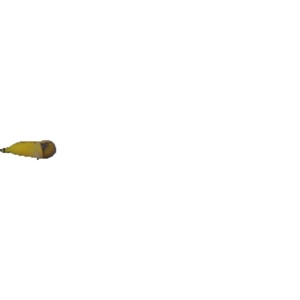banana: (1, 137, 58, 163)
